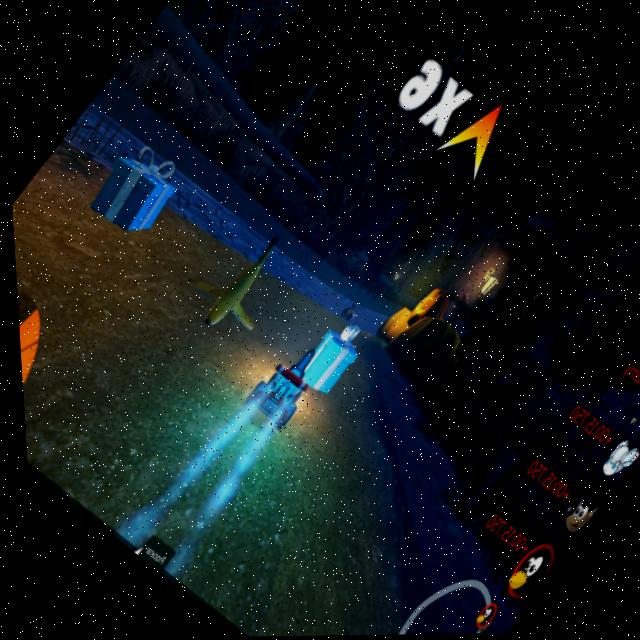bonus: (67, 130, 197, 259), (278, 312, 374, 407)
obstacle: (171, 224, 304, 358)
